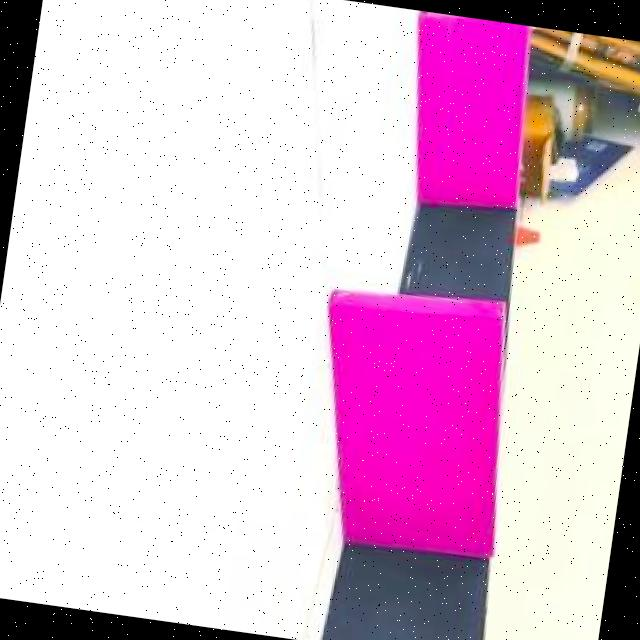xparking: (301, 280, 505, 555), (394, 11, 532, 210)
